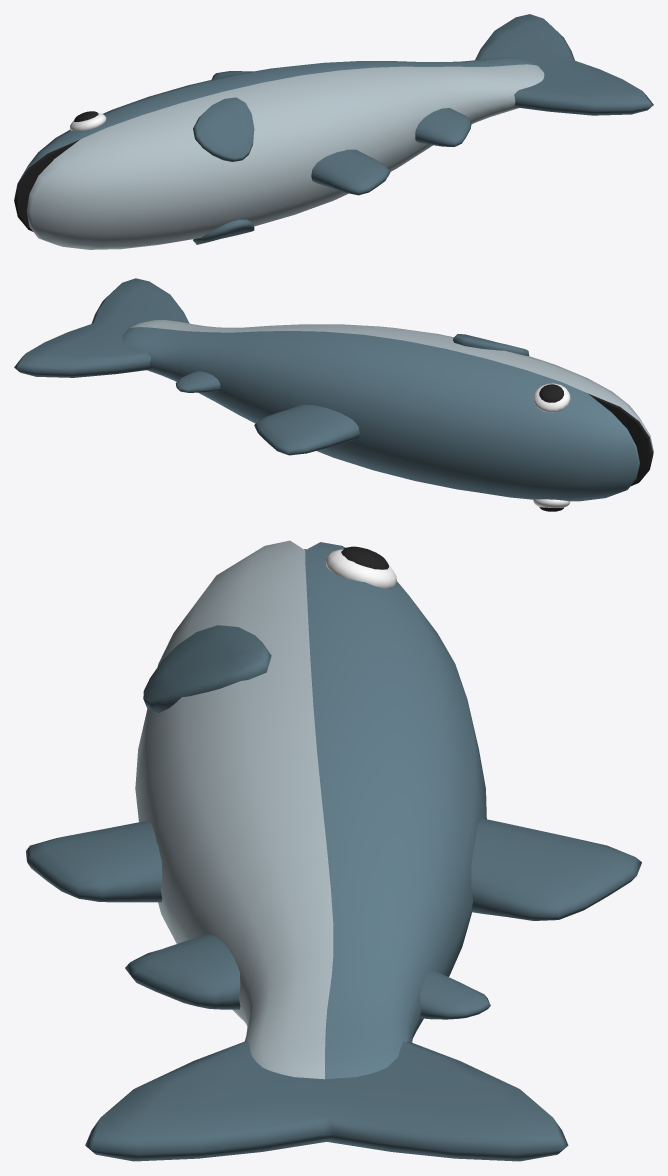
The model's file is Salmon_2.fbx.
3 renders of one model, top to bottom at view 1: azimuth 30°, elevation 25°; view 2: azimuth 150°, elevation 25°; view 3: azimuth 270°, elevation 25°, orthographic. The views are drawn at different scales.
Parts seen in each view (by area): view 1: Salmon_2; view 2: Salmon_2; view 3: Salmon_2.
Boxes of the visible parts, x1,y1,x2,y2 form: Salmon_2: (14, 14, 653, 249); Salmon_2: (14, 278, 653, 511); Salmon_2: (26, 540, 641, 1161).
Size of the model in its own units: 100 by 22.37 by 46.81.
